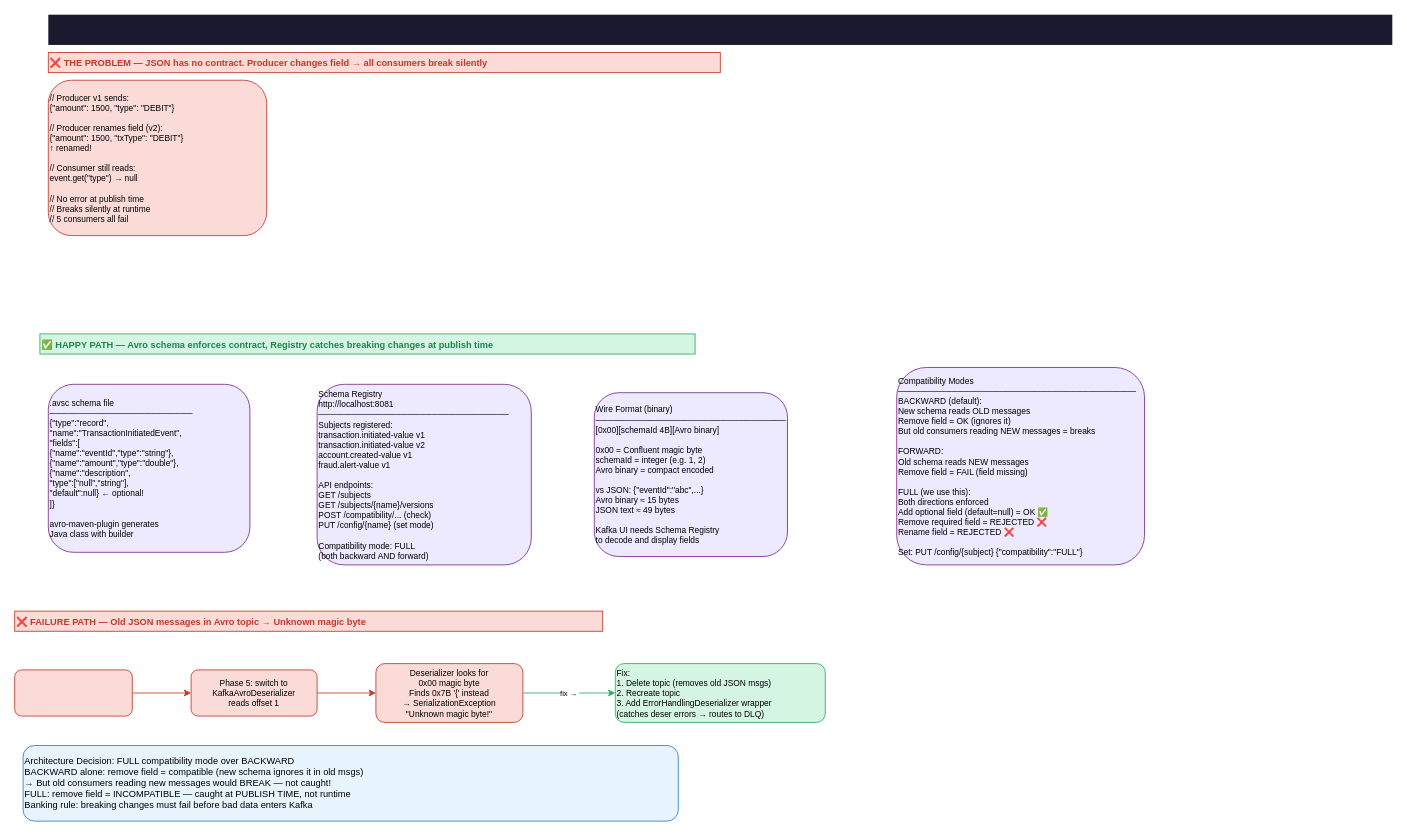
The diagram is 1407 pixels wide and 836 high, and some of its shapes have lost their labels. The shapes that lost their labels are listed below. From the top down, each one's centre as x and y in pixels, then its label:
(720,29): Avro + Schema Registry — Schema evolution · Backward compatibility · Wire format
(73,692): Phase 4: JSON msg {"eventId":...} in topic (offset 1)
